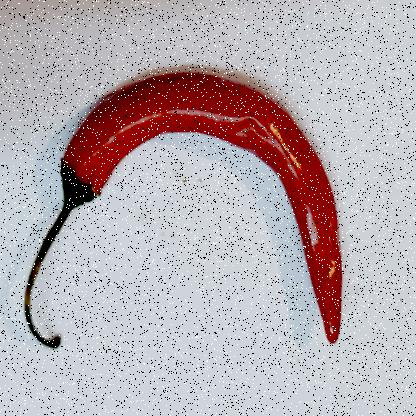chili: (22, 70, 342, 356)
